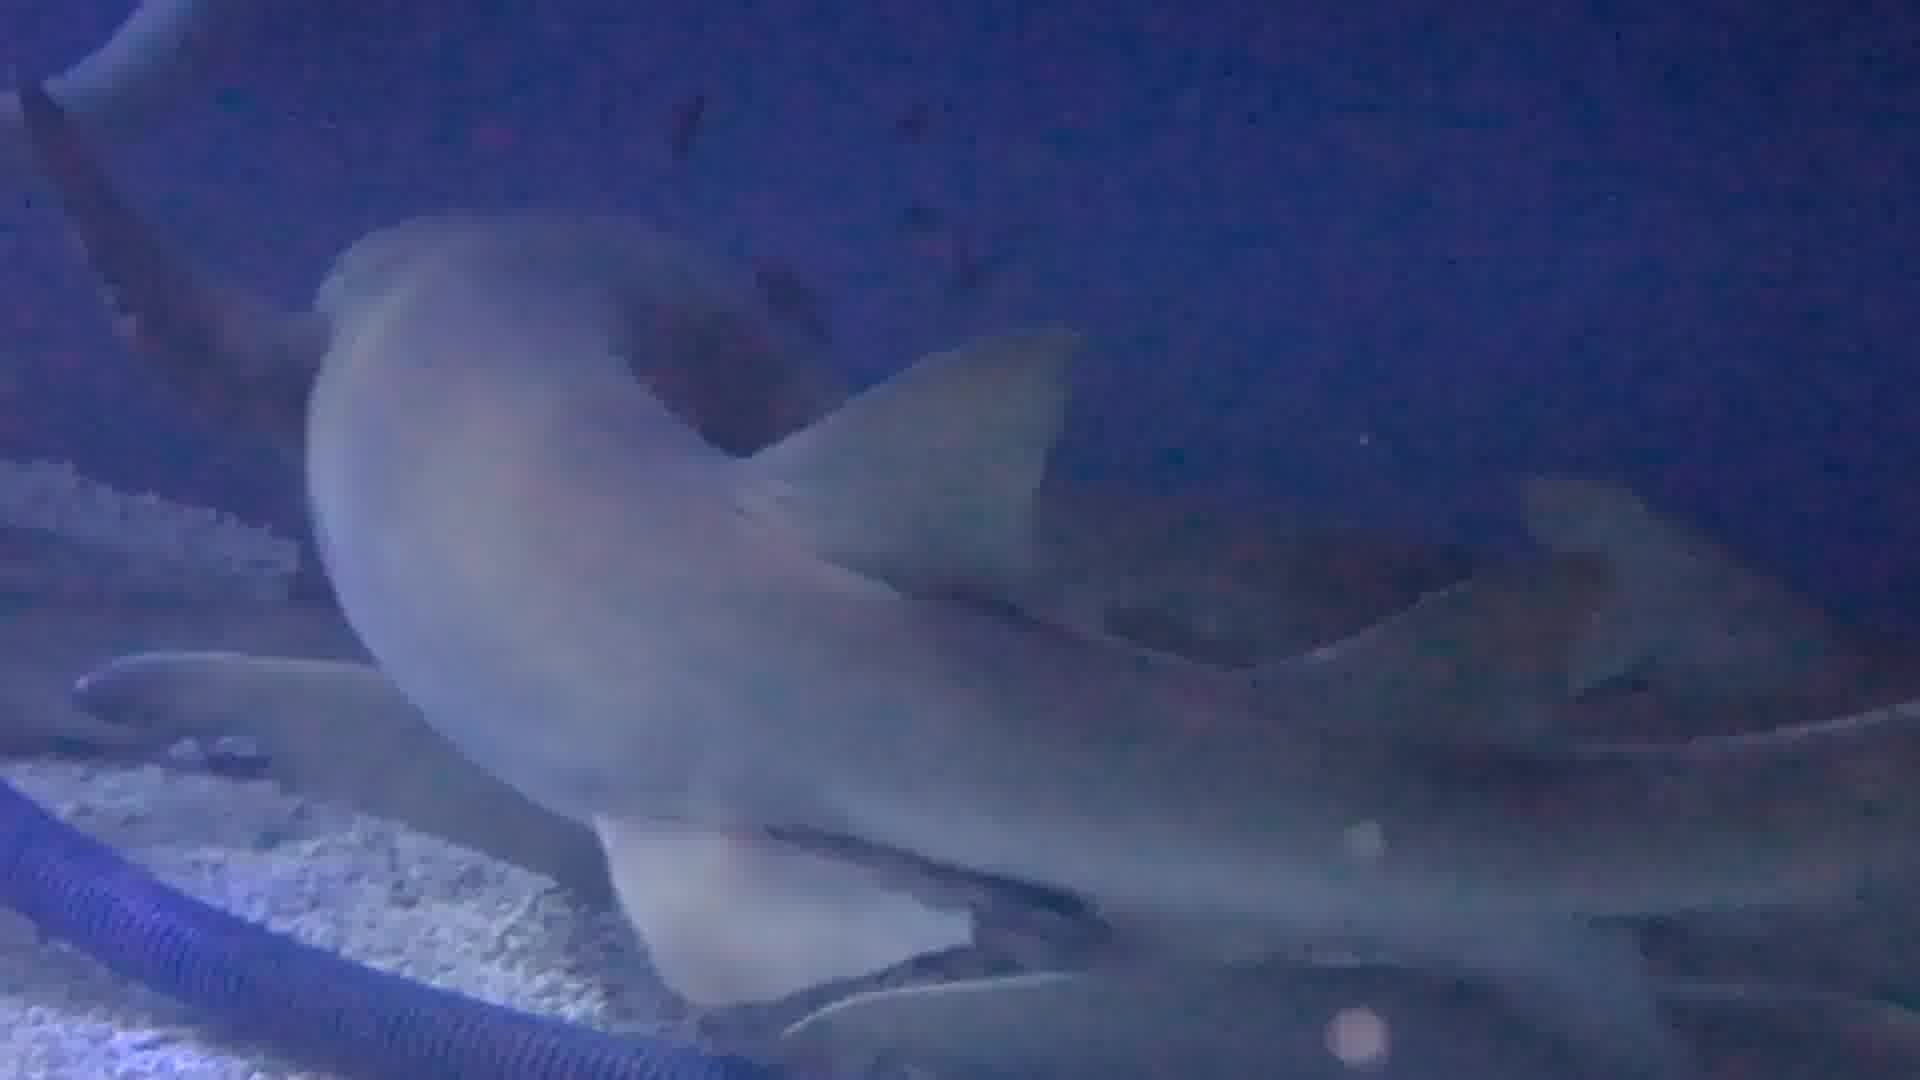Nebrius ferrugineus: (245, 166, 1807, 965)
